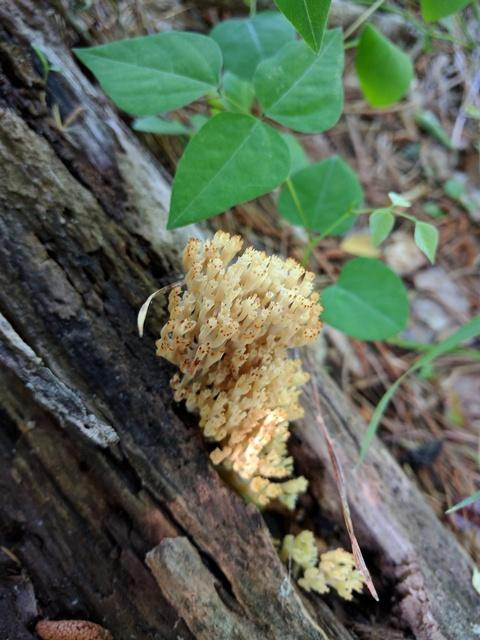Edible Mushroom: (136, 228, 324, 512)
